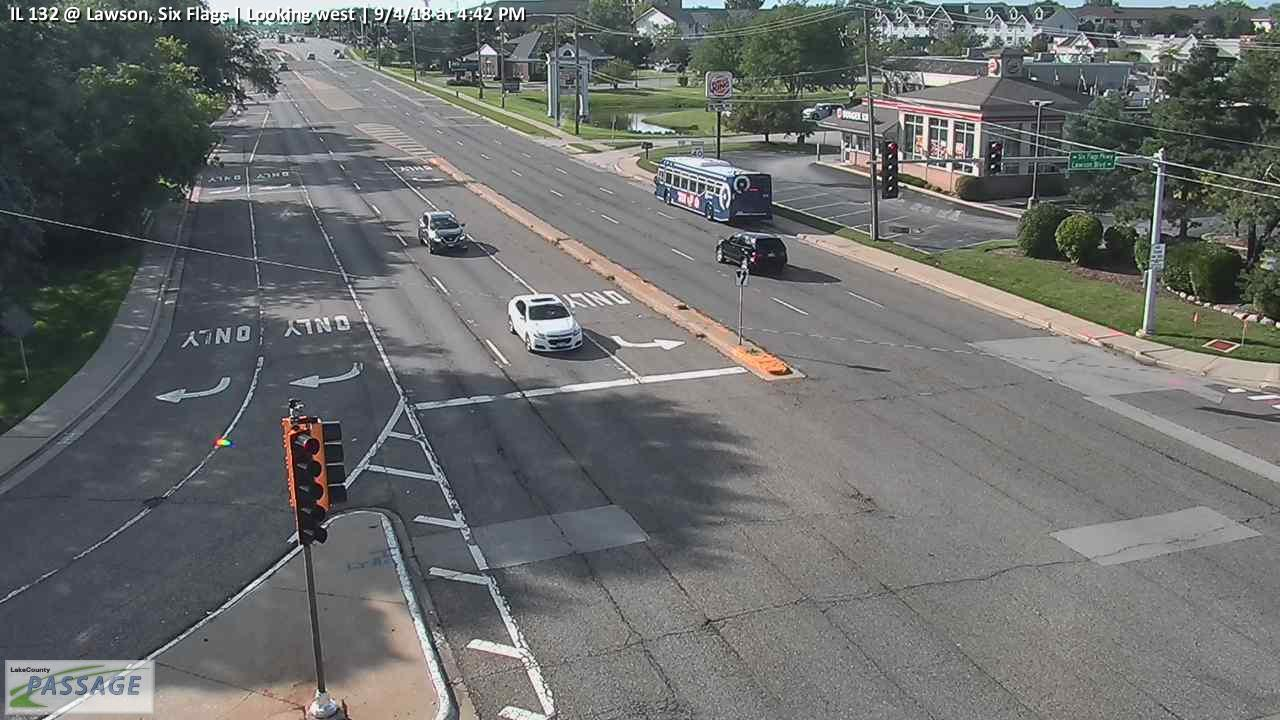Bus: (654, 155, 772, 225)
SUV: (715, 232, 787, 275), (417, 210, 467, 253)
Sedan: (507, 294, 582, 351)
